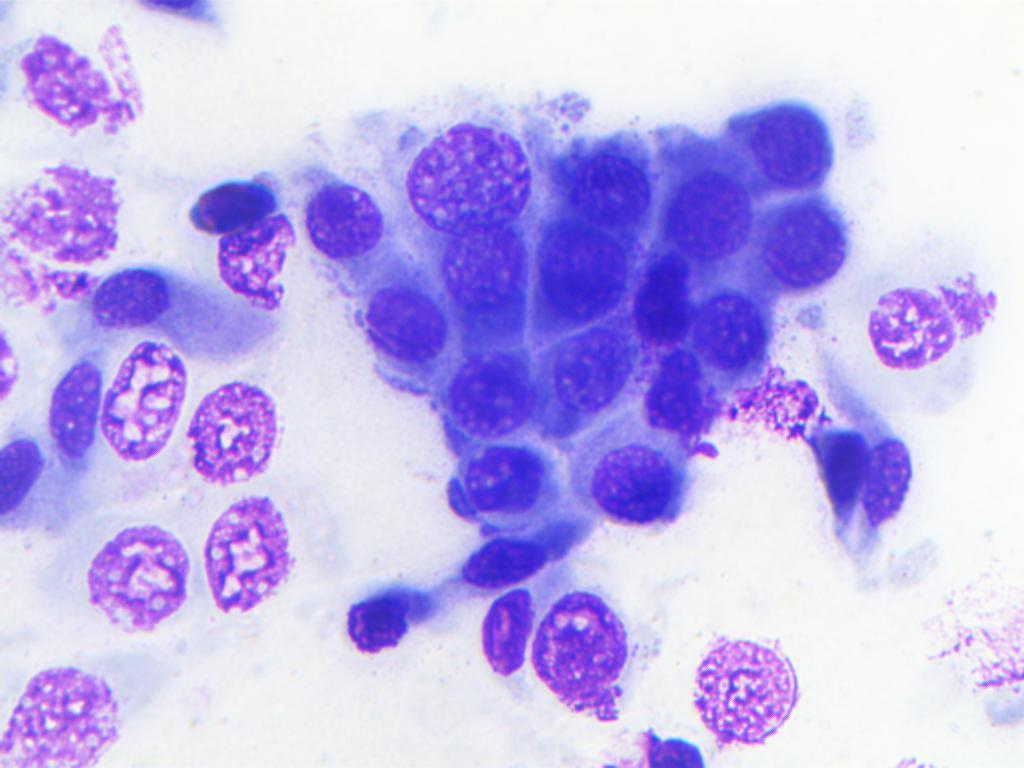epithelial: (689, 612, 827, 766), (0, 164, 126, 312), (395, 123, 543, 234), (848, 261, 997, 367), (529, 574, 629, 722), (0, 39, 149, 134), (194, 488, 298, 623), (83, 509, 187, 644), (0, 662, 130, 768), (526, 220, 645, 333), (566, 436, 681, 548), (184, 368, 282, 487), (99, 330, 186, 464), (742, 96, 845, 189), (332, 572, 429, 668), (752, 204, 855, 293), (433, 216, 535, 304), (298, 168, 390, 264), (355, 279, 447, 375), (443, 343, 532, 441), (546, 319, 635, 414), (456, 439, 548, 530), (179, 160, 276, 246), (684, 286, 772, 374), (660, 174, 749, 256), (633, 250, 708, 347), (567, 150, 658, 224), (46, 344, 99, 468), (455, 531, 553, 597), (812, 419, 866, 526), (88, 264, 177, 328), (864, 441, 916, 537), (0, 432, 44, 524)
